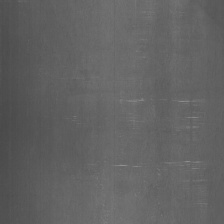waist_folding: (59, 56, 208, 198)
